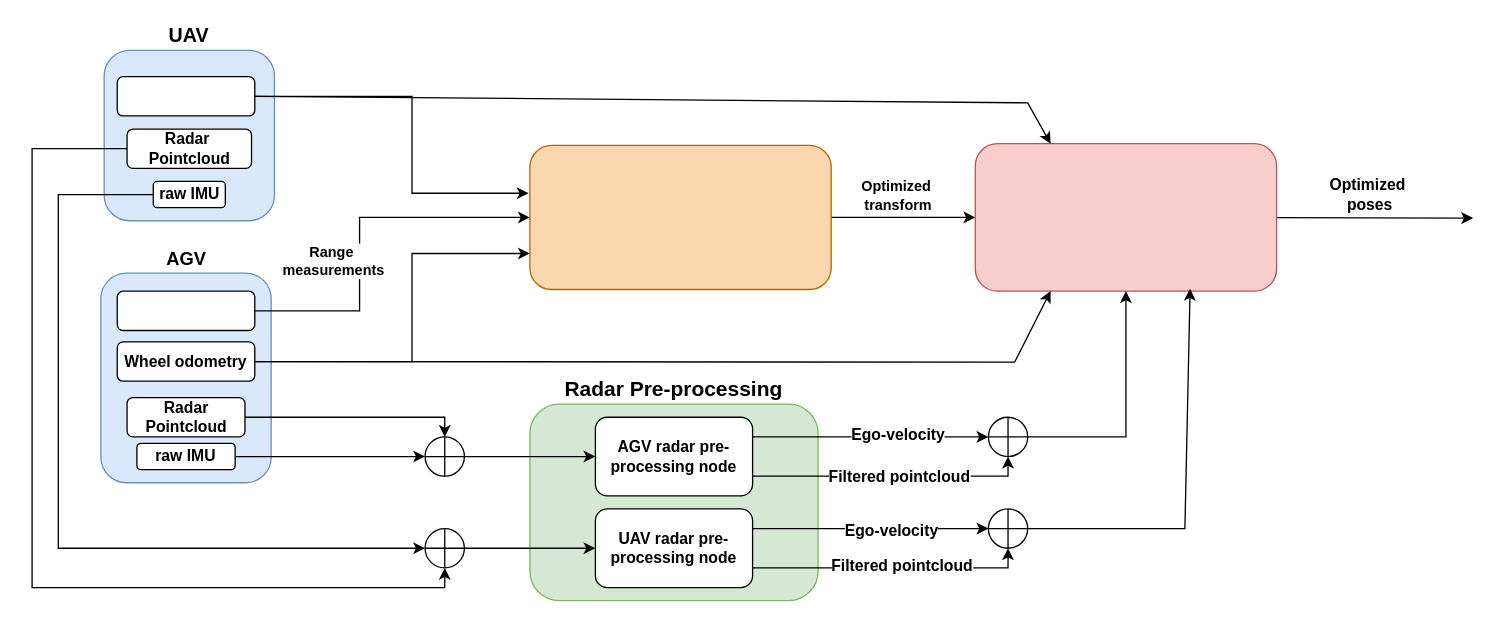
Some shapes in this 1506 by 624 pixel diagram are drawn without their labels. The shapes that lost their labels are listed below. From the top down, each one's box as (x1, y1, x2, y2) in pixels, then its label:
(116, 75, 255, 116): Autopilot fused velocities
(529, 144, 831, 290): Relative Transform Estimation Node
(974, 142, 1277, 291): Multi-robot Pose Graph Node
(116, 290, 255, 331): Eliko RTLS Server
